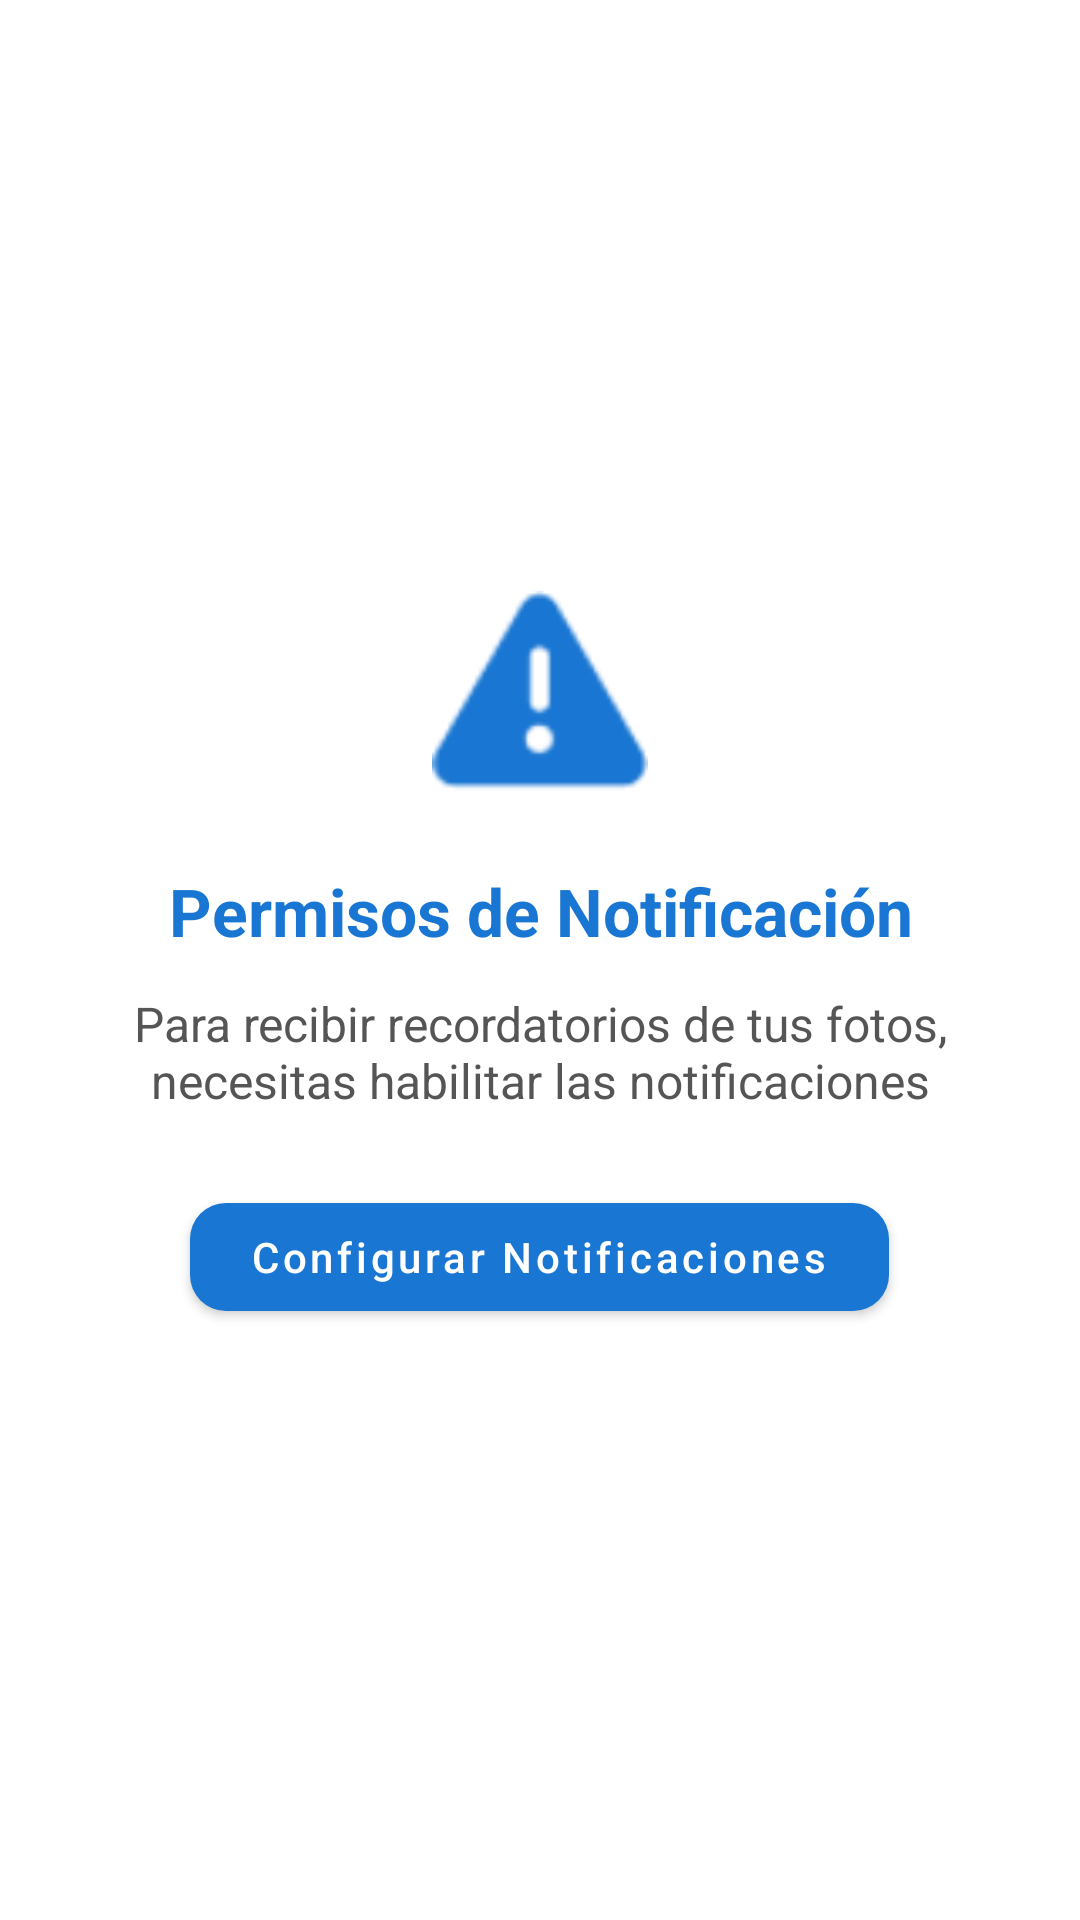

Locate icon controls on the screen. Image size 1080px x 1920px, boxes as [left=x1, top=y1, right=x2, bottom=y2].
alert: [left=432, top=591, right=600, bottom=759]
